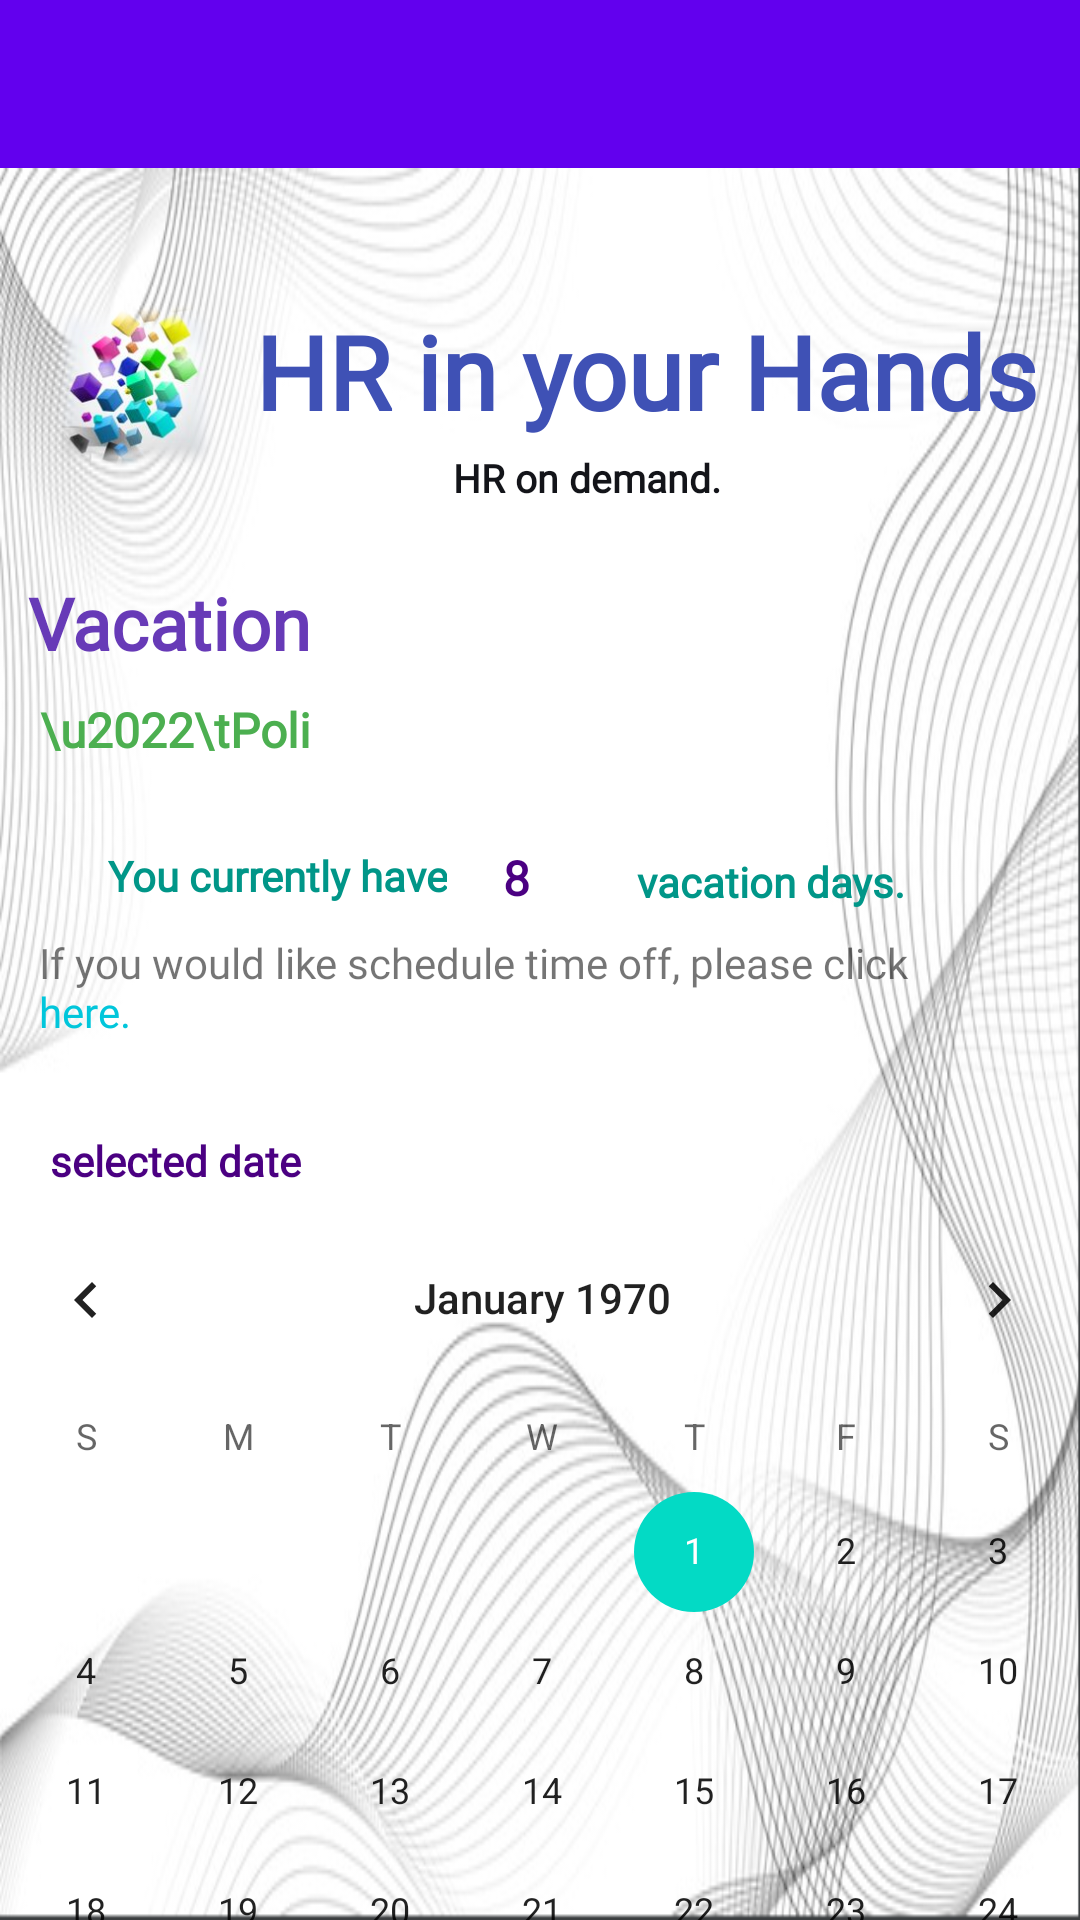

Screen size 1080x1920. Icon name, then its box in pixels as (x1, y1, x2, y2):
blocks: (30, 303, 239, 471)
